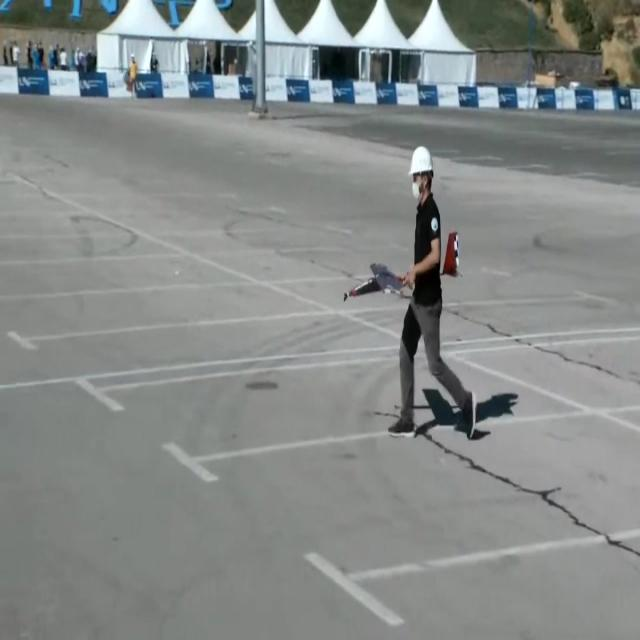iha: (372, 258, 429, 262)
